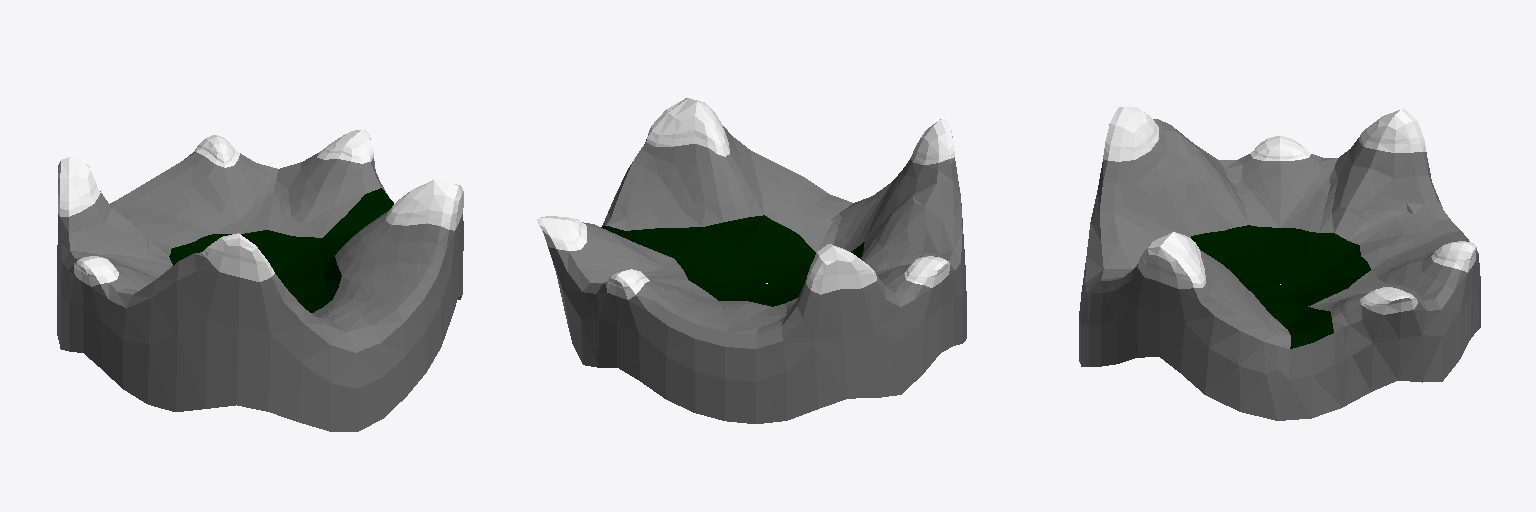
File: provberg3.obj
3 renders of one model, left to right at view 1: azimuth 30°, elevation 25°; view 2: azimuth 150°, elevation 25°; view 3: azimuth 270°, elevation 25°, orthographic.
Parts seen in each view (by area): view 1: pTorus3; view 2: pTorus3; view 3: pTorus3.
Part boxes in pixels (x1,y1,x2,y2): pTorus3: (57,129,463,431); pTorus3: (537,98,966,423); pTorus3: (1079,107,1480,420).
Size of the model in its own units: 70.31 by 39.41 by 69.74.